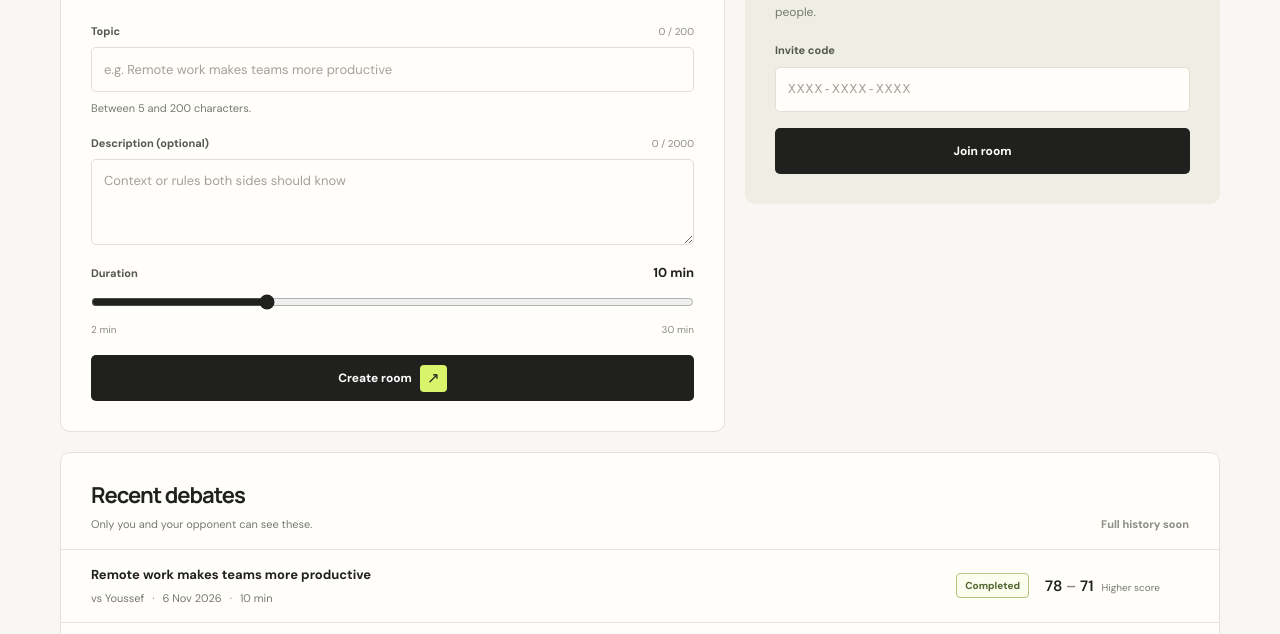
Test: DashboardPage › validates the topic, then shows the invite code
(page scrolled)
Step 1. Click the button "Create room ↗" → [392, 378], box x1=91 y1=355 x2=694 y2=401
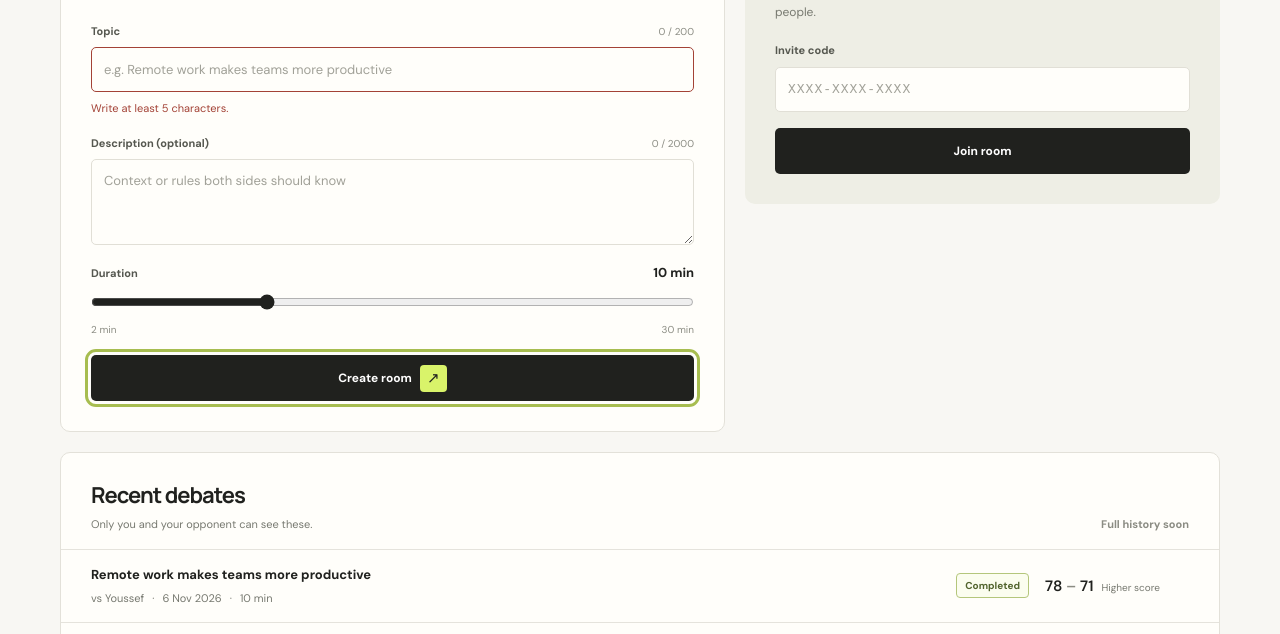
Step 2. Type "Remote work is better" into the field labelled "Topic" → [392, 70], box x1=91 y1=47 x2=694 y2=92
(page scrolled)
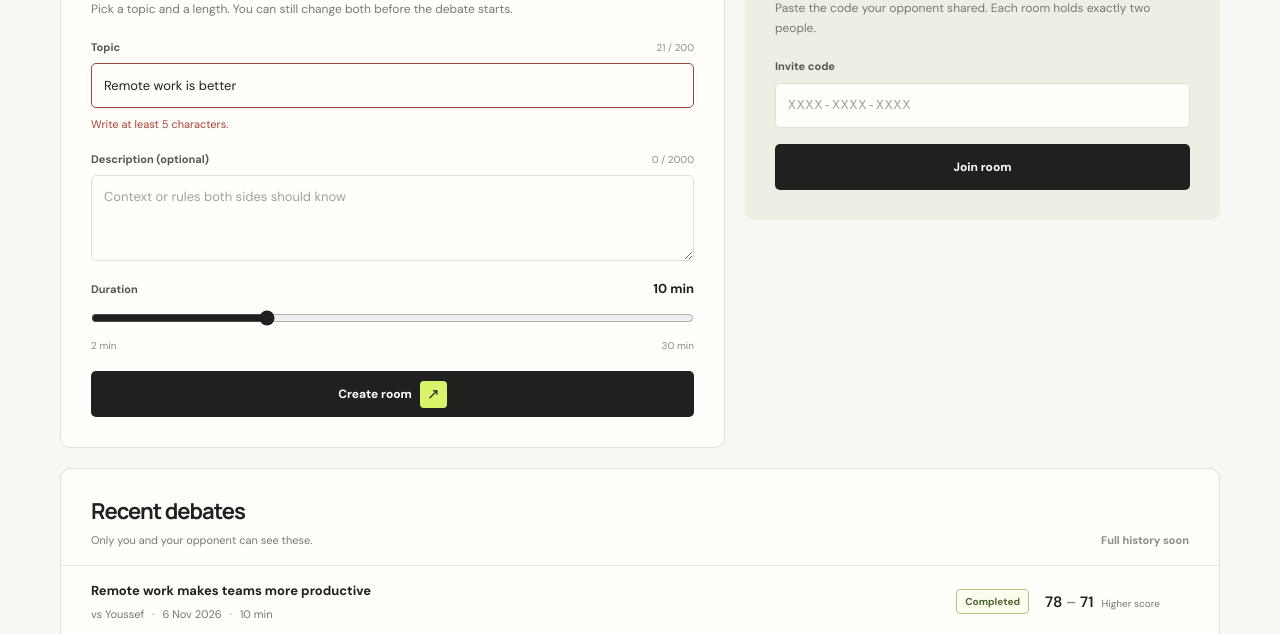
Step 3. Click the button "Create room ↗" → [392, 394], box x1=91 y1=371 x2=694 y2=417
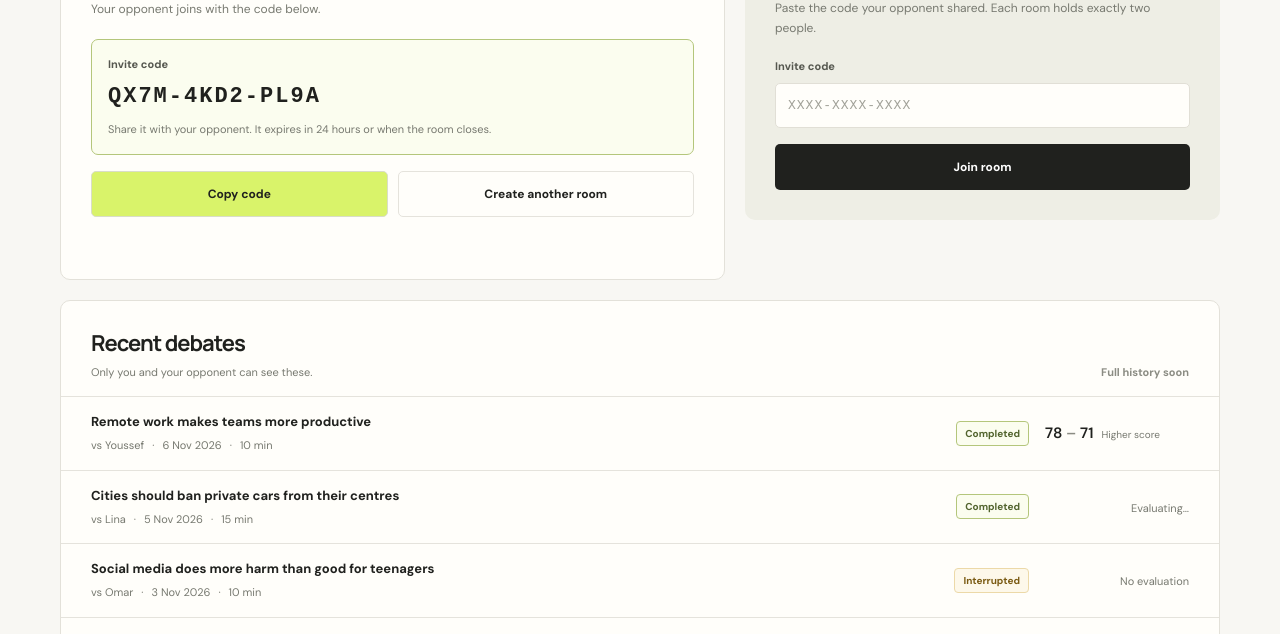
Expected: the text "QX7M-4KD2-PL9A" is shown, x1=108 y1=84 x2=321 y2=109
